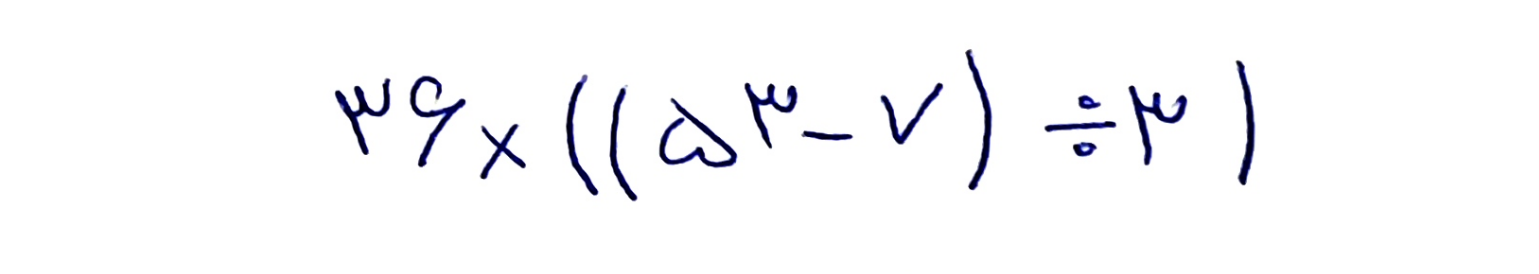character: (658, 95, 740, 168), (409, 76, 470, 169), (332, 76, 393, 158), (1128, 84, 1187, 168), (1042, 94, 1118, 159), (878, 81, 945, 148), (566, 71, 600, 199), (964, 49, 993, 191), (608, 84, 640, 197), (745, 81, 797, 146), (1235, 59, 1258, 186), (480, 122, 529, 181), (801, 128, 848, 143)
